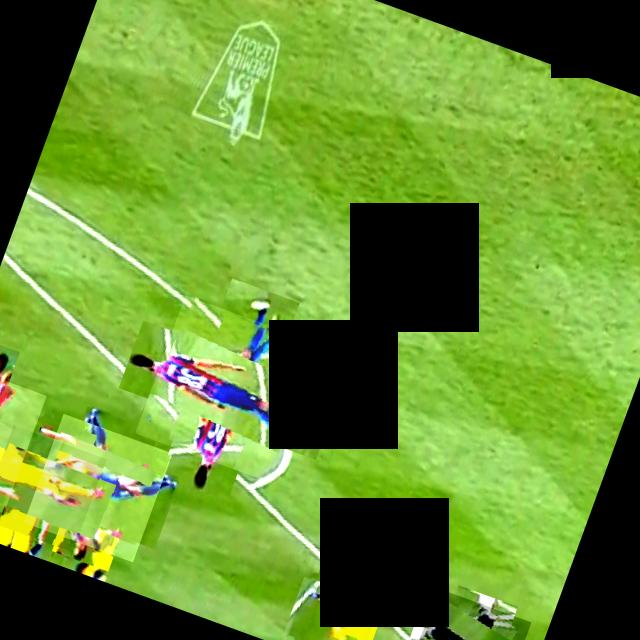referee: (403, 587, 530, 640)
soccer-player: (134, 294, 323, 483), (23, 412, 172, 562), (0, 424, 106, 551), (285, 571, 382, 640), (0, 364, 45, 512)
